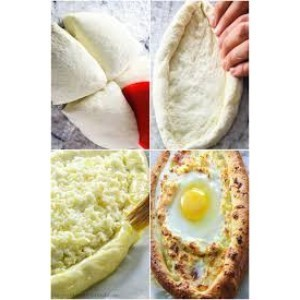cheese_brain food: (54, 163, 133, 285), (159, 167, 235, 291), (156, 41, 233, 137), (61, 51, 128, 145)
